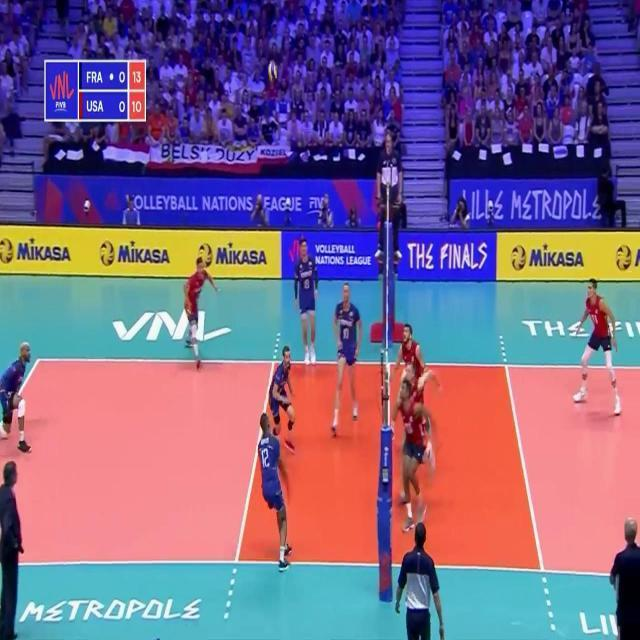volleyball: (268, 60, 278, 82)
